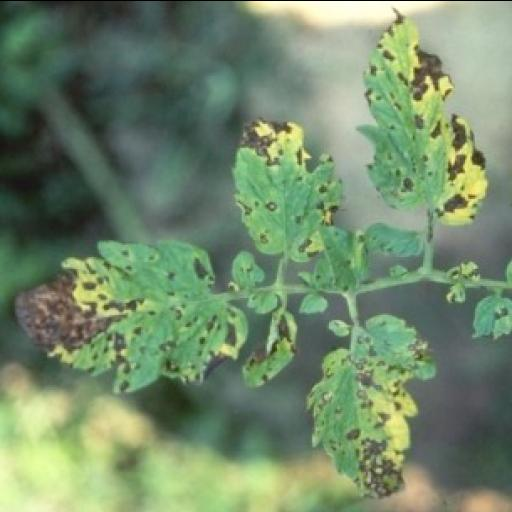disease_tomato: (17, 222, 243, 394), (354, 2, 492, 236), (300, 310, 445, 508), (226, 113, 348, 261), (240, 307, 309, 394)
